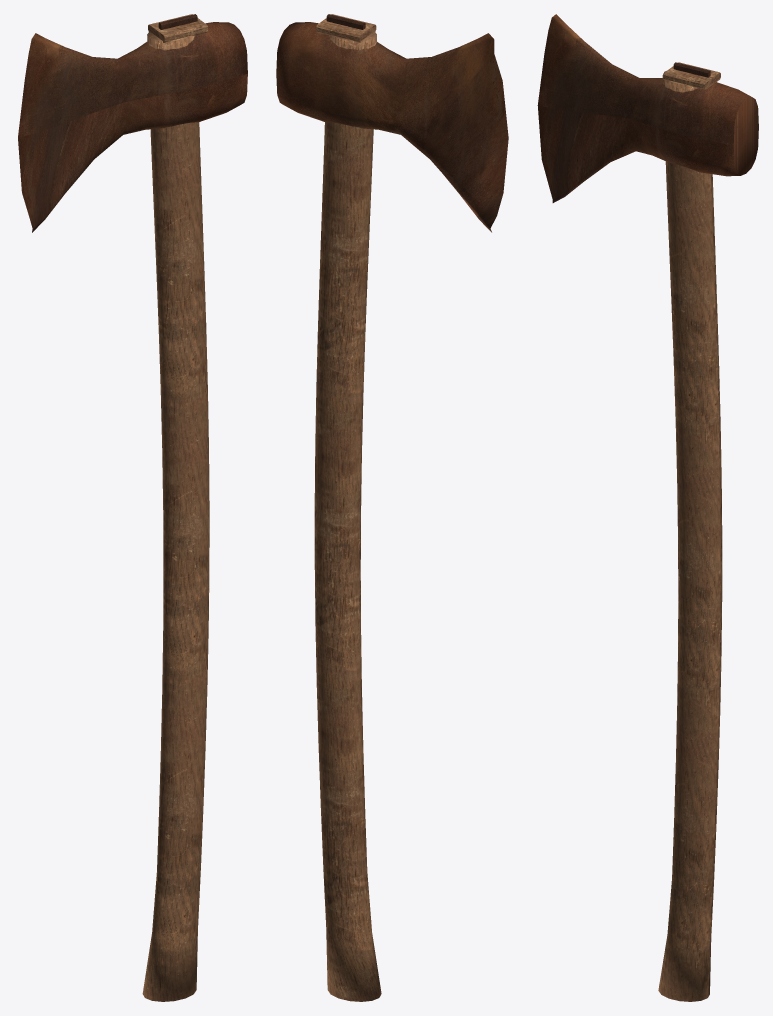
File: b_tool_axe1.glb
3 views of the same model, side by side, from view 1: azimuth 30°, elevation 25°; view 2: azimuth 150°, elevation 25°; view 3: azimuth 330°, elevation 25° (orthographic). The views are drawn at different scales.
Parts seen in each view (by area): view 1: b_tool_axe1; view 2: b_tool_axe1; view 3: b_tool_axe1.
Part boxes in pixels (x1=…): b_tool_axe1: x1=18, y1=14, x2=247, y2=1001; b_tool_axe1: x1=276, y1=14, x2=508, y2=1001; b_tool_axe1: x1=537, y1=14, x2=758, y2=1001.
Bounding box in the file's own units: 0.1824 × 0.786 × 0.044.
Materials: 2 (2 with a texture image).
